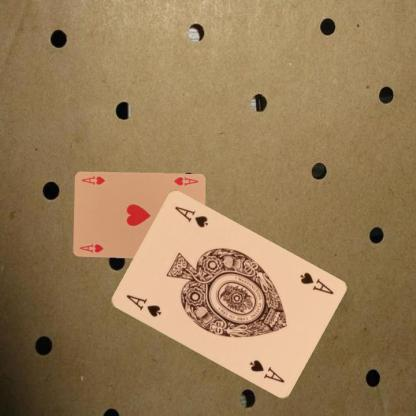Ah: (171, 175, 199, 187), (77, 242, 104, 254)
As: (123, 292, 163, 318), (297, 270, 335, 296)
